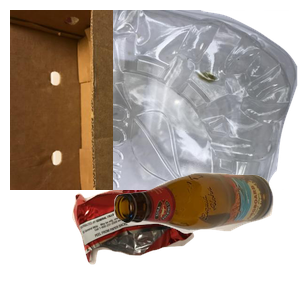cardboard: (10, 10, 211, 190)
glass: (111, 170, 300, 300)
plastic: (113, 10, 300, 190)
trash: (70, 162, 257, 300)
